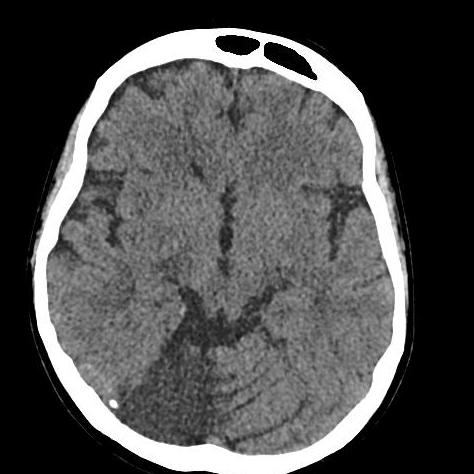Cancer: (139, 332, 221, 446)
